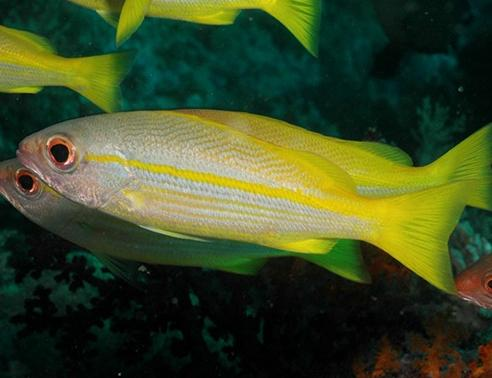Lutjanidae -Snappers-: (19, 110, 479, 298)
